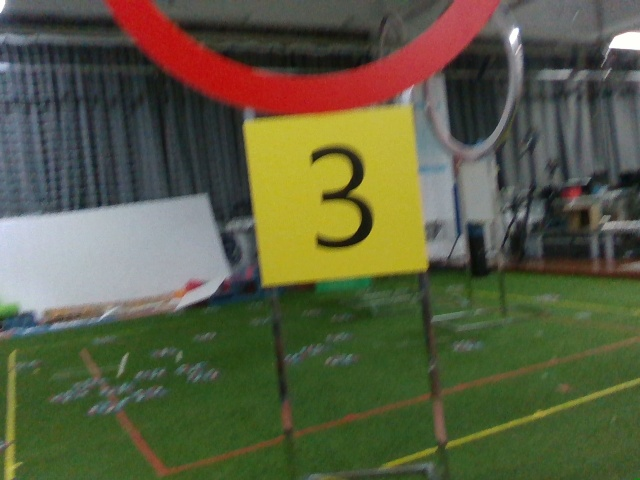target: (251, 119, 428, 275)
